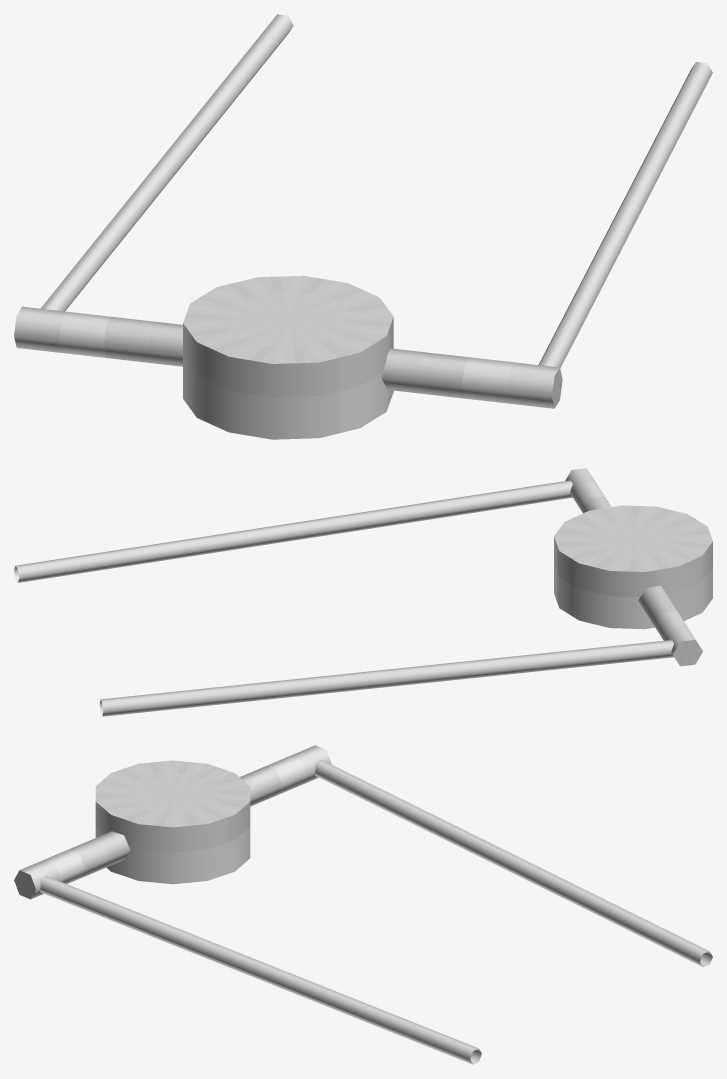
The model's file is nycsignalarm_diagonal8_c0_thin.obj.
The picture shows the model from 3 angles, top to bottom: view 1: azimuth 30°, elevation 25°; view 2: azimuth 150°, elevation 25°; view 3: azimuth 270°, elevation 25°; orthographic projection. The views are drawn at different scales.
Parts seen in each view (by area): view 1: nycsignalarm_diagonal8_c0_thin; view 2: nycsignalarm_diagonal8_c0_thin; view 3: nycsignalarm_diagonal8_c0_thin.
Part boxes in pixels (box(x1,y1,x2,y2)): nycsignalarm_diagonal8_c0_thin: box(14, 14, 712, 439); nycsignalarm_diagonal8_c0_thin: box(14, 468, 712, 716); nycsignalarm_diagonal8_c0_thin: box(14, 745, 712, 1064).
Size of the model in its own units: 2.51 by 0.225 by 2.51.
